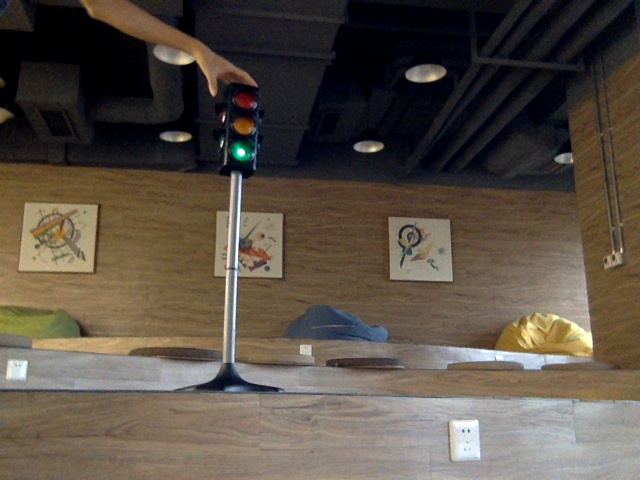green: (227, 89, 260, 168)
